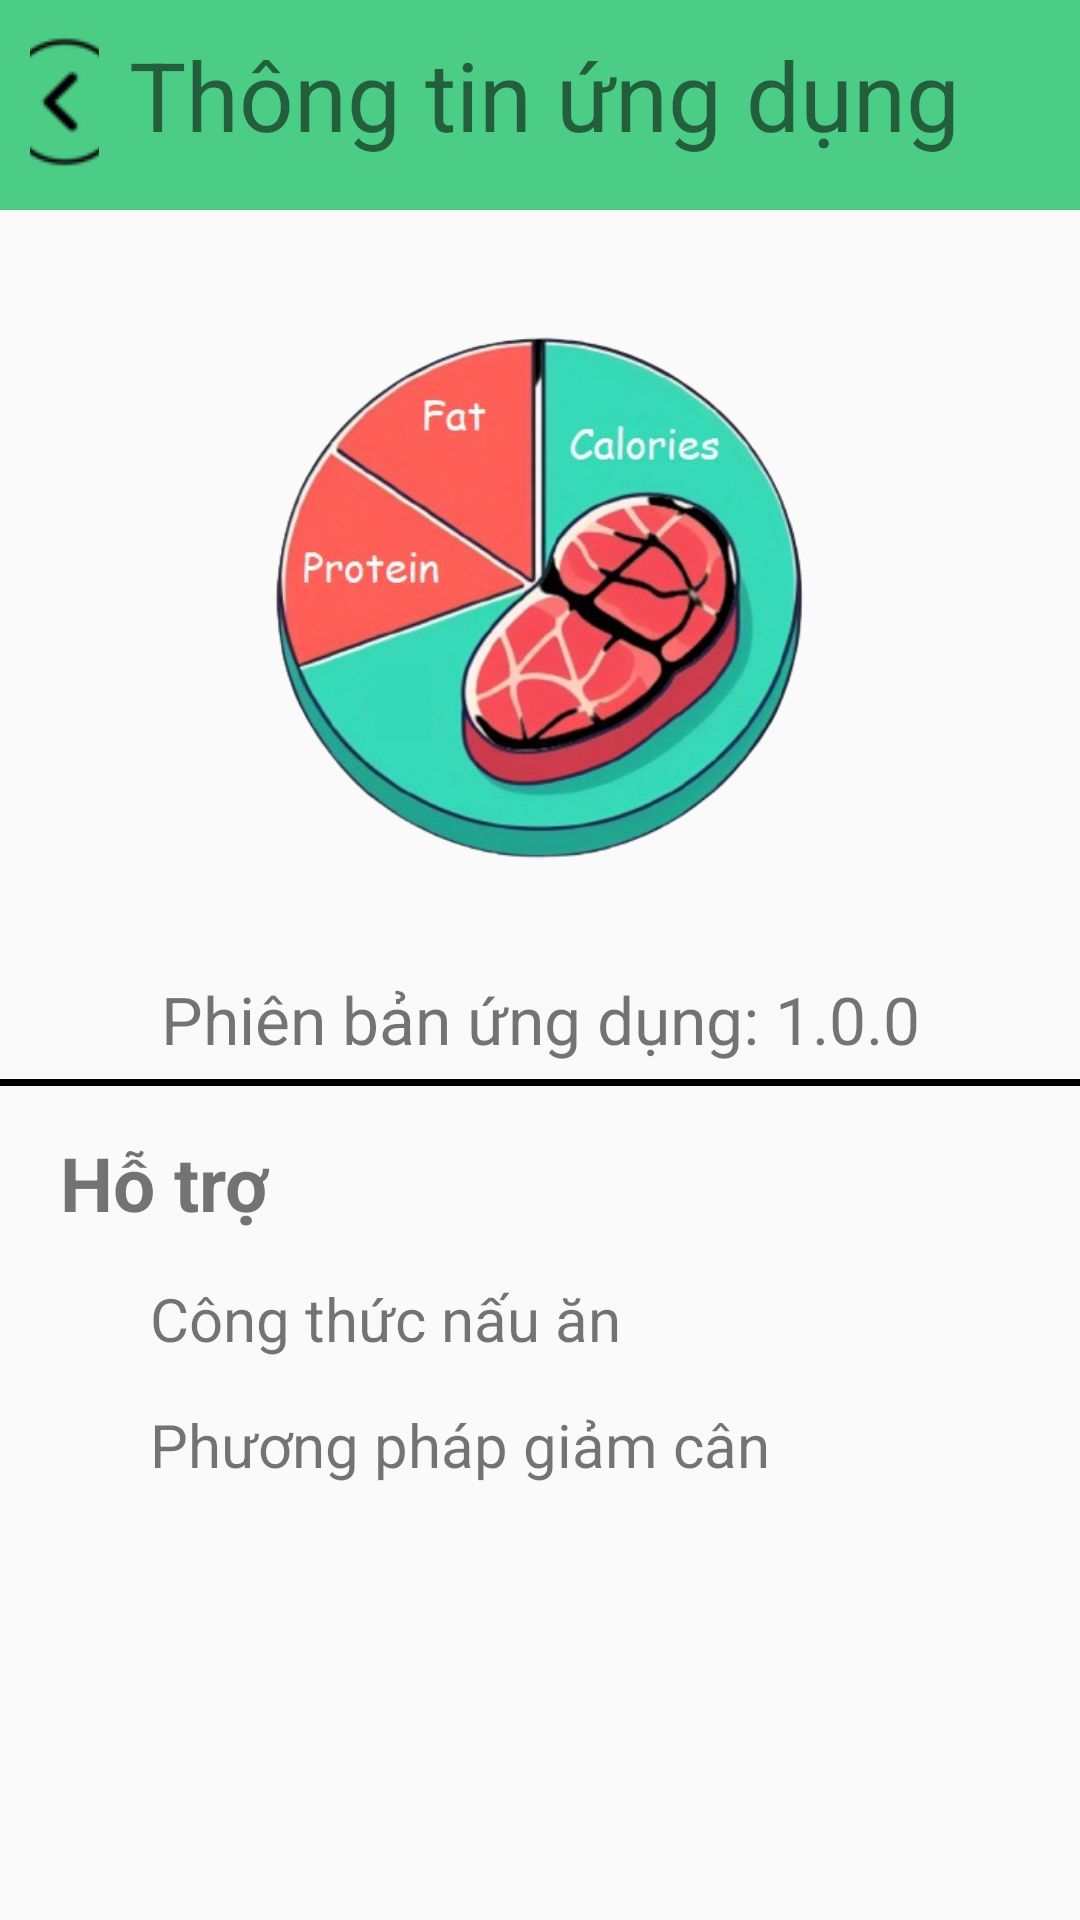

Named icons in this screenshot (1080 × 1920) and their bounding boxes, (x1, y1, x2, y2):
back: (30, 38, 99, 166)
